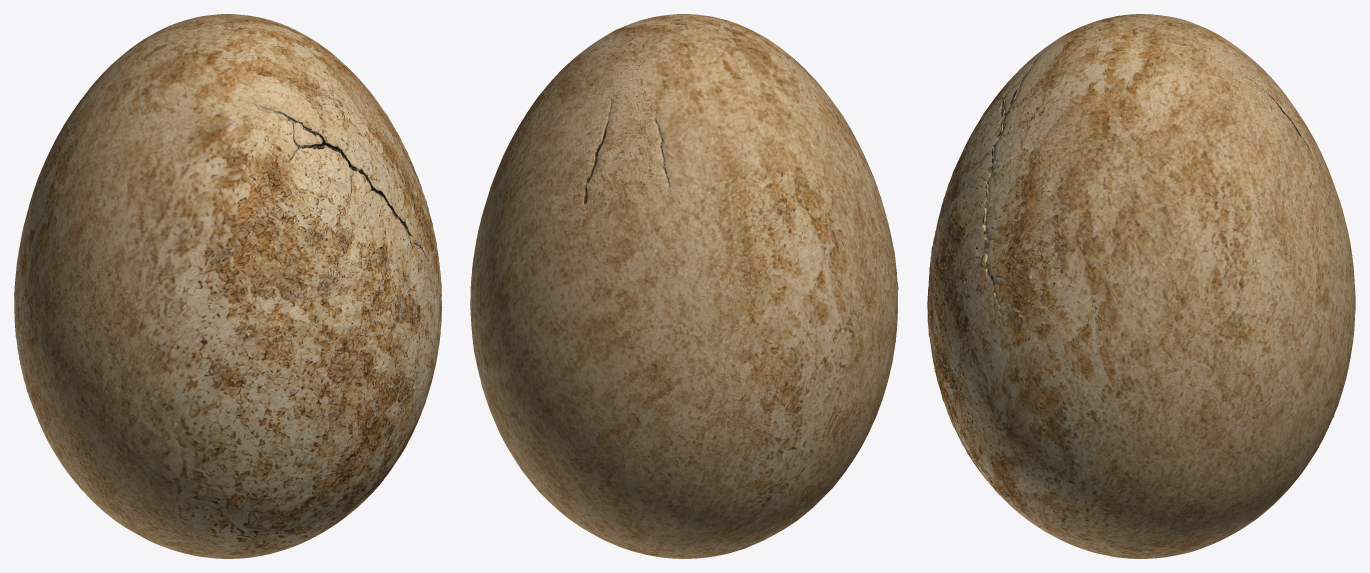
Rendered from 04_egg.glb.
3 views of the same model, side by side, from view 1: azimuth 30°, elevation 25°; view 2: azimuth 150°, elevation 25°; view 3: azimuth 270°, elevation 25° (orthographic).
Parts seen in each view (by area): view 1: meshy_04_egg; view 2: meshy_04_egg; view 3: meshy_04_egg.
Boxes of the visible parts, x1=… form: meshy_04_egg: x1=14, y1=14, x2=441, y2=558; meshy_04_egg: x1=470, y1=14, x2=898, y2=558; meshy_04_egg: x1=927, y1=14, x2=1355, y2=558.
Bounding box in the file's own units: 0.7557 × 1 × 0.7543.
Materials: 1 (1 with a texture image).
